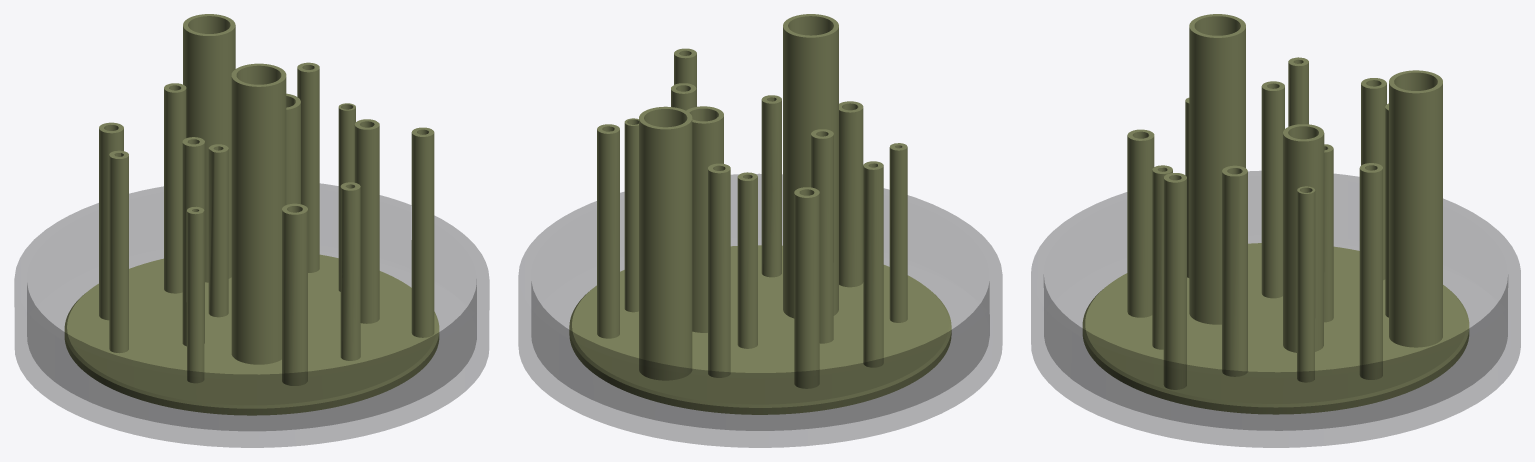
The model's file is Furniture_Other-Furniture_Fritz-Hansen_Ikeru-low-vase.fbx.
3 renders of one model, left to right at view 1: azimuth 30°, elevation 25°; view 2: azimuth 150°, elevation 25°; view 3: azimuth 270°, elevation 25°, orthographic. The views are drawn at different scales.
Visible parts, largest first — view 1: L_b231713a_da62_4b7e_8f0e_29594c8b729e_I8, L_b53af058_33f9_47ab_84e7_76ff5cc80ef6_I9, L_72f6d400_0f90_48c7_b2d5_24be115d9424_I5, L_52fd463c_5581_42aa_8b1a_fa5f2df398ea_I4, L_cced61f8_c3df_41b0_8d57_623b31b3387a_I15, L_39a681e4_fdba_4b13_9412_76294ad110f4_I3, L_c12ba789_0c37_4eee_bbaf_5a57b78c9aae_I11, L_34aeefde_5e9b_4e39_90a4_0306c2cb6ee7_I1, L_c0d6b09d_53da_4340_ad4e_81d9fa9c2397_I10, L_c34c9bcb_b0c7_4566_b3fa_c0638b491a1b_I12, L_cb09e15c_3e1f_4e7e_b587_66b0d9ddd2e1_I13, L_cb5fbb37_85fa_4360_a28d_a5df935664a1_I14 (+5 smaller); view 2: L_b231713a_da62_4b7e_8f0e_29594c8b729e_I8, L_b53af058_33f9_47ab_84e7_76ff5cc80ef6_I9, L_52fd463c_5581_42aa_8b1a_fa5f2df398ea_I4, L_72f6d400_0f90_48c7_b2d5_24be115d9424_I5, L_cfff78d5_eb8b_47b8_bee5_38bff7264bc0_I16, L_cb09e15c_3e1f_4e7e_b587_66b0d9ddd2e1_I13, L_34aeefde_5e9b_4e39_90a4_0306c2cb6ee7_I1, L_39a681e4_fdba_4b13_9412_76294ad110f4_I3, L_adcf6b60_0ff3_460f_8fec_abffc9df4961_I7, L_c0d6b09d_53da_4340_ad4e_81d9fa9c2397_I10, L_c34c9bcb_b0c7_4566_b3fa_c0638b491a1b_I12, L_cb5fbb37_85fa_4360_a28d_a5df935664a1_I14 (+5 smaller); view 3: L_b231713a_da62_4b7e_8f0e_29594c8b729e_I8, L_b53af058_33f9_47ab_84e7_76ff5cc80ef6_I9, L_52fd463c_5581_42aa_8b1a_fa5f2df398ea_I4, L_72f6d400_0f90_48c7_b2d5_24be115d9424_I5, L_adcf6b60_0ff3_460f_8fec_abffc9df4961_I7, L_c12ba789_0c37_4eee_bbaf_5a57b78c9aae_I11, L_cb09e15c_3e1f_4e7e_b587_66b0d9ddd2e1_I13, L_cced61f8_c3df_41b0_8d57_623b31b3387a_I15, L_39a681e4_fdba_4b13_9412_76294ad110f4_I3, L_83a29e30_69b8_41eb_9842_b8bcb20b34e7_I6, L_e03e0a7a_2523_46e7_864f_53dfa25a7d5d_I17, L_cfff78d5_eb8b_47b8_bee5_38bff7264bc0_I16 (+5 smaller).
Boxes of the visible parts, x1,y1,x2,y2 form: L_b231713a_da62_4b7e_8f0e_29594c8b729e_I8: [14, 183, 489, 447]; L_b53af058_33f9_47ab_84e7_76ff5cc80ef6_I9: [64, 254, 439, 415]; L_72f6d400_0f90_48c7_b2d5_24be115d9424_I5: [231, 63, 286, 364]; L_52fd463c_5581_42aa_8b1a_fa5f2df398ea_I4: [183, 14, 235, 282]; L_cced61f8_c3df_41b0_8d57_623b31b3387a_I15: [411, 127, 434, 337]; L_39a681e4_fdba_4b13_9412_76294ad110f4_I3: [282, 203, 307, 385]; L_c12ba789_0c37_4eee_bbaf_5a57b78c9aae_I11: [354, 119, 379, 323]; L_34aeefde_5e9b_4e39_90a4_0306c2cb6ee7_I1: [164, 83, 186, 293]; L_c0d6b09d_53da_4340_ad4e_81d9fa9c2397_I10: [109, 150, 128, 353]; L_c34c9bcb_b0c7_4566_b3fa_c0638b491a1b_I12: [340, 182, 360, 360]; L_cb09e15c_3e1f_4e7e_b587_66b0d9ddd2e1_I13: [297, 62, 319, 272]; L_cb5fbb37_85fa_4360_a28d_a5df935664a1_I14: [208, 144, 228, 317]; L_b231713a_da62_4b7e_8f0e_29594c8b729e_I8: [518, 174, 1002, 447]; L_b53af058_33f9_47ab_84e7_76ff5cc80ef6_I9: [569, 245, 951, 414]; L_52fd463c_5581_42aa_8b1a_fa5f2df398ea_I4: [639, 106, 692, 380]; L_72f6d400_0f90_48c7_b2d5_24be115d9424_I5: [783, 14, 838, 318]; L_cfff78d5_eb8b_47b8_bee5_38bff7264bc0_I16: [794, 187, 819, 388]; L_cb09e15c_3e1f_4e7e_b587_66b0d9ddd2e1_I13: [597, 124, 619, 338]; L_34aeefde_5e9b_4e39_90a4_0306c2cb6ee7_I1: [708, 163, 730, 377]; L_39a681e4_fdba_4b13_9412_76294ad110f4_I3: [839, 101, 863, 287]; L_adcf6b60_0ff3_460f_8fec_abffc9df4961_I7: [686, 106, 723, 332]; L_c0d6b09d_53da_4340_ad4e_81d9fa9c2397_I10: [863, 161, 883, 367]; L_c34c9bcb_b0c7_4566_b3fa_c0638b491a1b_I12: [761, 95, 781, 277]; L_cb5fbb37_85fa_4360_a28d_a5df935664a1_I14: [737, 172, 757, 348]; L_b231713a_da62_4b7e_8f0e_29594c8b729e_I8: [1031, 171, 1520, 447]; L_b53af058_33f9_47ab_84e7_76ff5cc80ef6_I9: [1082, 243, 1469, 414]; L_52fd463c_5581_42aa_8b1a_fa5f2df398ea_I4: [1389, 70, 1442, 347]; L_72f6d400_0f90_48c7_b2d5_24be115d9424_I5: [1189, 14, 1245, 324]; L_adcf6b60_0ff3_460f_8fec_abffc9df4961_I7: [1283, 124, 1324, 352]; L_c12ba789_0c37_4eee_bbaf_5a57b78c9aae_I11: [1222, 165, 1247, 376]; L_cb09e15c_3e1f_4e7e_b587_66b0d9ddd2e1_I13: [1359, 163, 1382, 379]; L_cced61f8_c3df_41b0_8d57_623b31b3387a_I15: [1163, 173, 1186, 389]; L_39a681e4_fdba_4b13_9412_76294ad110f4_I3: [1127, 129, 1154, 317]; L_83a29e30_69b8_41eb_9842_b8bcb20b34e7_I6: [1261, 81, 1284, 298]; L_e03e0a7a_2523_46e7_864f_53dfa25a7d5d_I17: [1297, 186, 1315, 382]; L_cfff78d5_eb8b_47b8_bee5_38bff7264bc0_I16: [1361, 78, 1386, 280].
Bounding box in the file's own units: 190 × 190 × 132.
